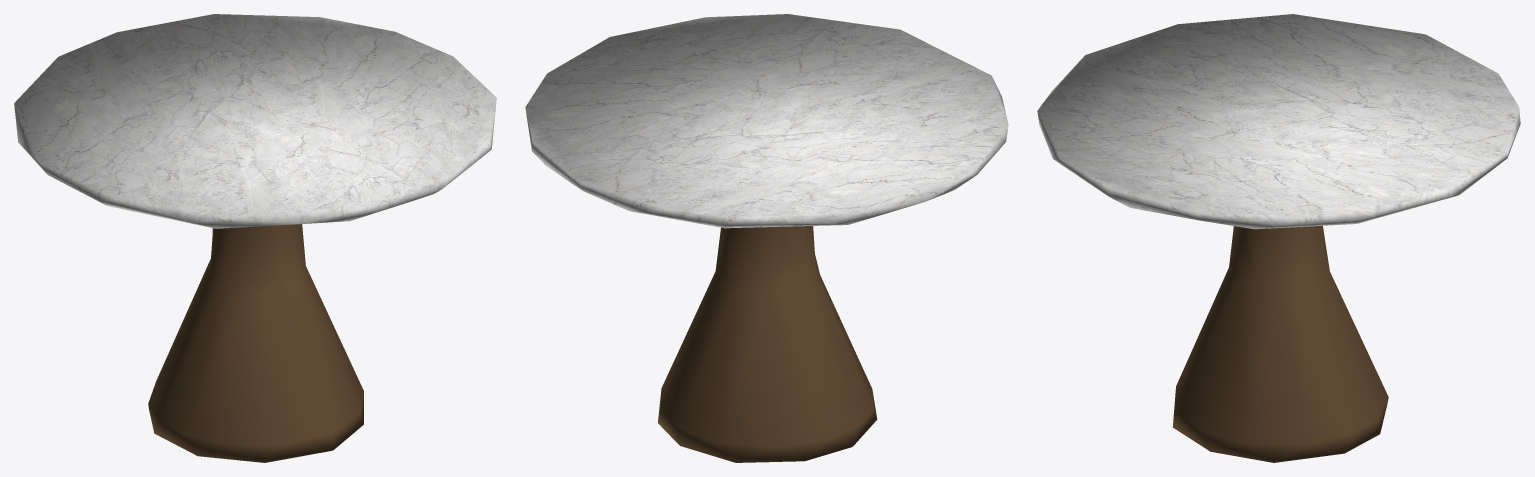
Rendered from table cafter.fbx.
The picture shows the model from 3 angles, left to right: view 1: azimuth 30°, elevation 25°; view 2: azimuth 150°, elevation 25°; view 3: azimuth 270°, elevation 25°; orthographic projection.
Parts seen in each view (by area): view 1: Table; view 2: Table; view 3: Table.
Boxes of the visible parts, x1,y1,x2,y2 form: Table: (14,14,496,462); Table: (525,14,1008,462); Table: (1037,14,1520,462).
Size of the model in its own units: 111 by 75.87 by 111.
